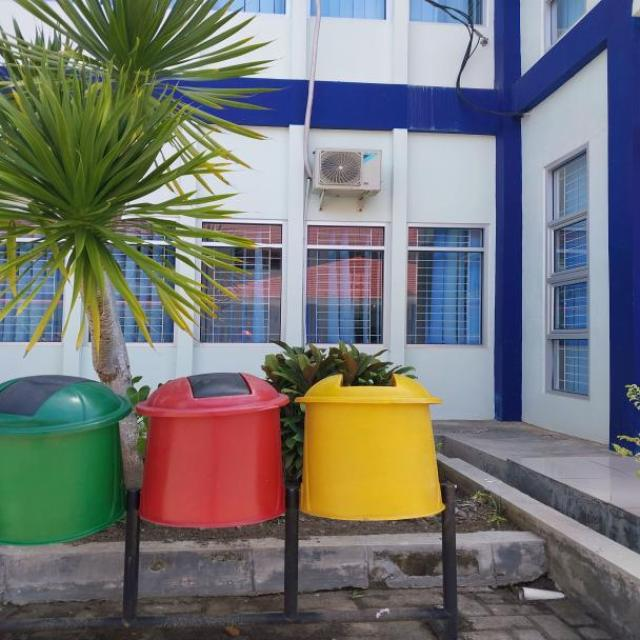dustbin ahead at: (0, 374, 450, 541)
